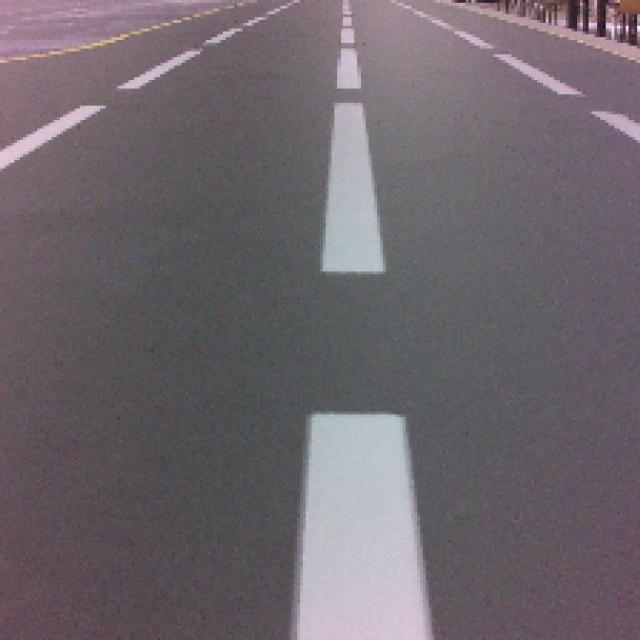Pedestrian crosswalk: (294, 410, 437, 640)
